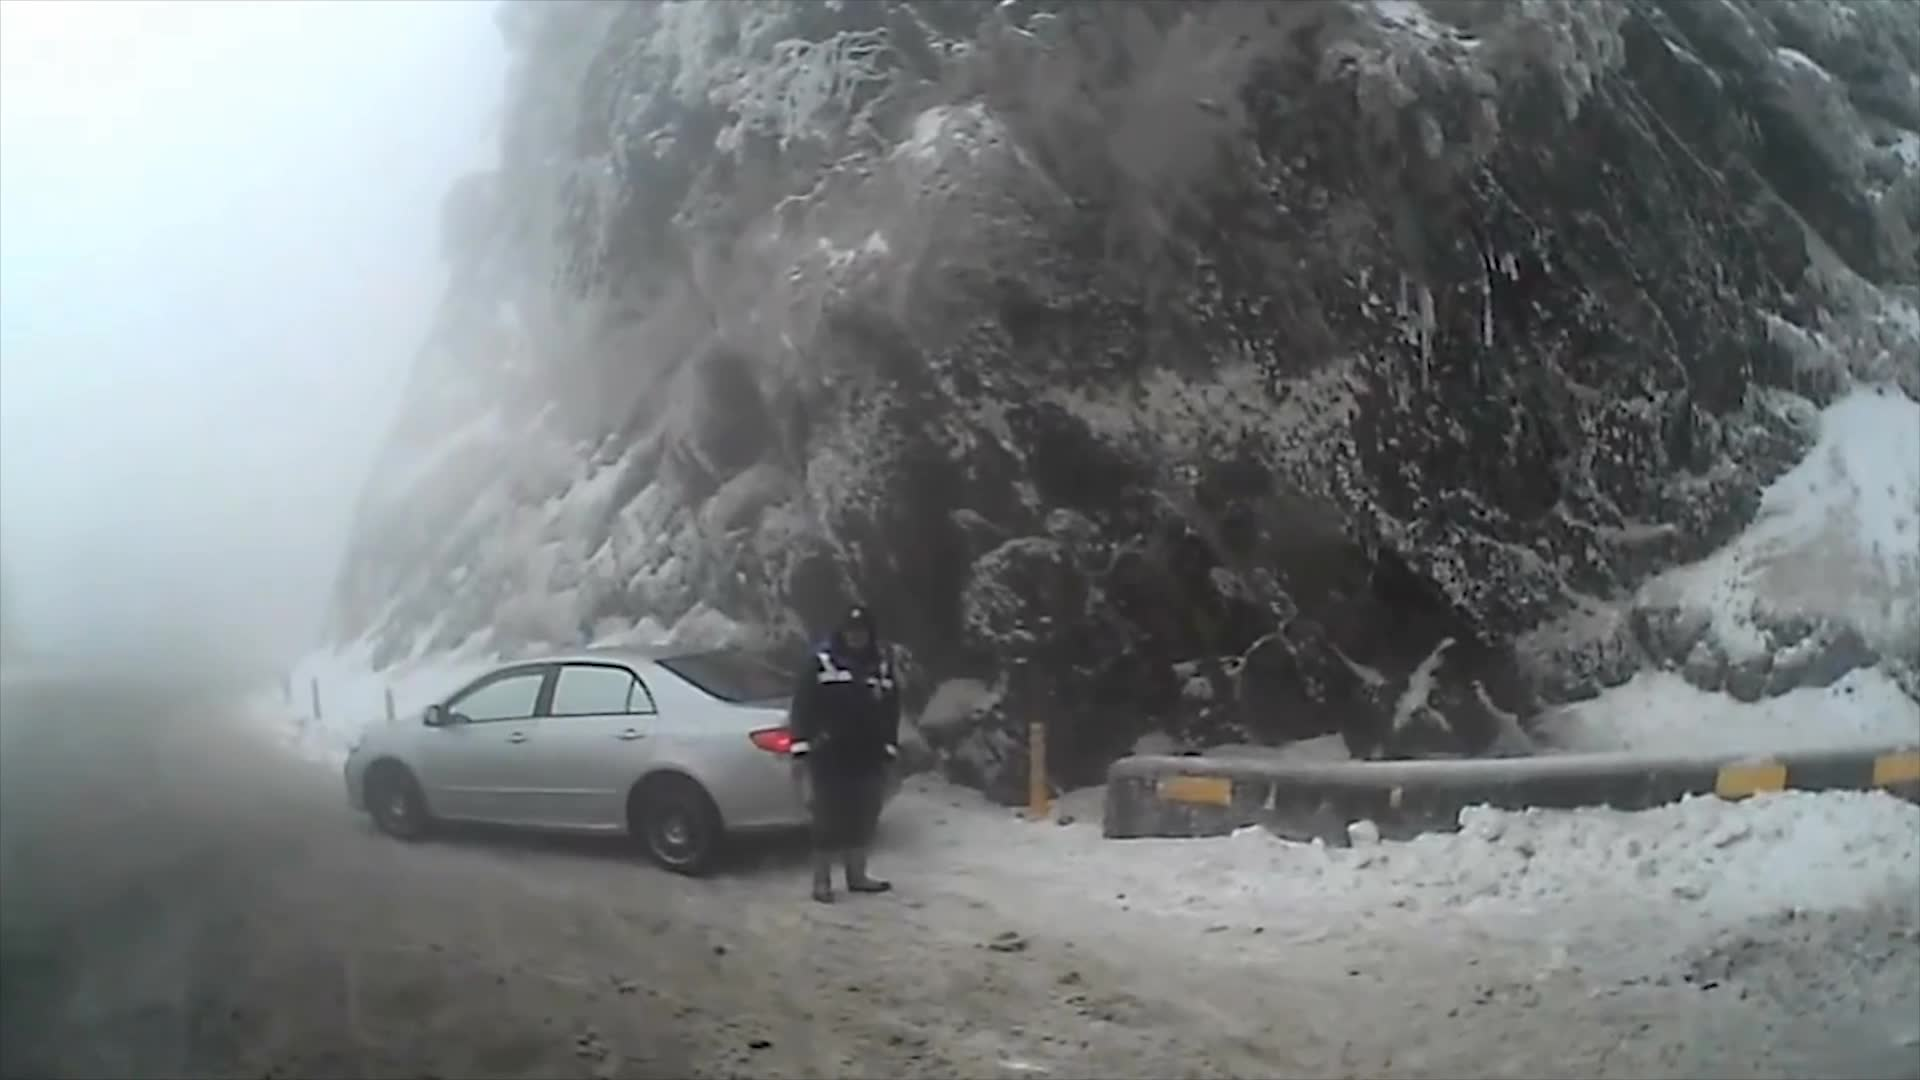pedestrian: (800, 597, 912, 903)
vehicle: (357, 647, 955, 886)
